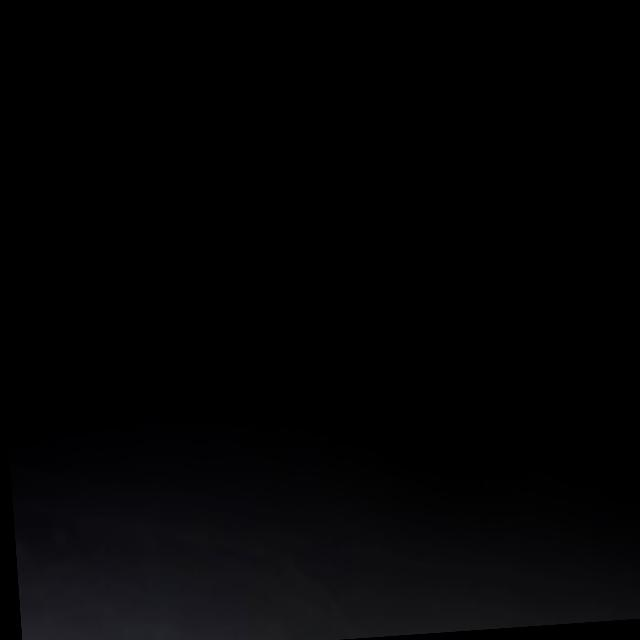dent: (181, 34, 254, 170), (51, 195, 129, 284), (552, 260, 606, 364), (418, 333, 456, 424)
